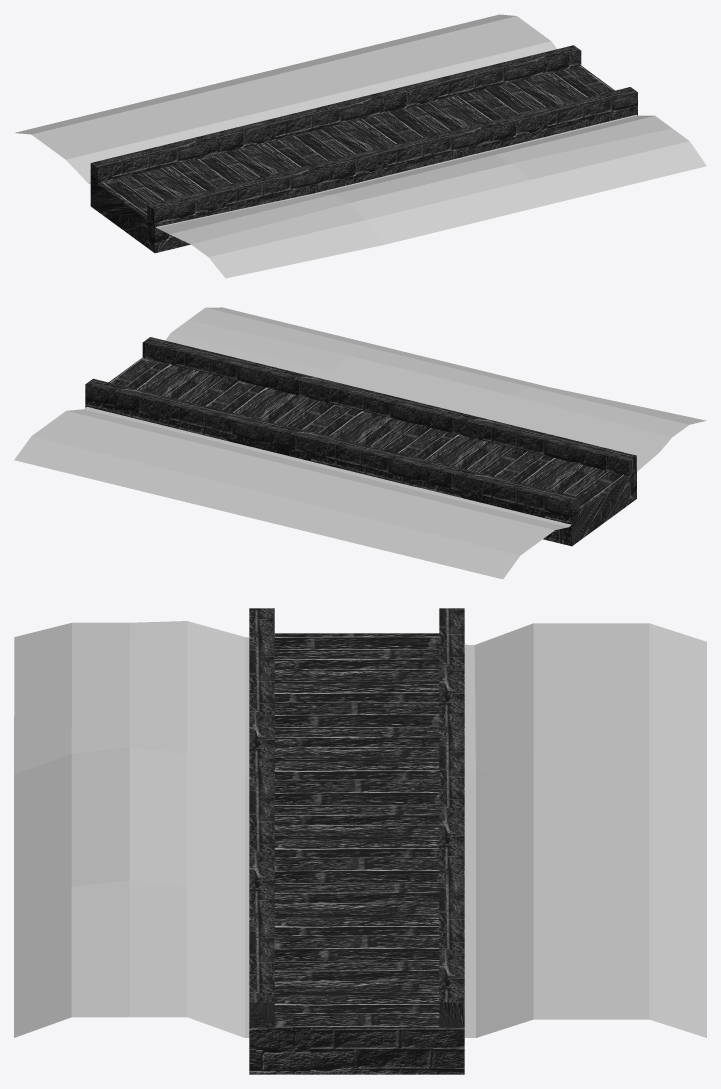
File: STRAIGHT .fbx
The picture shows the model from 3 angles, top to bottom: view 1: azimuth 30°, elevation 25°; view 2: azimuth 150°, elevation 25°; view 3: azimuth 270°, elevation 25°; orthographic projection. The views are drawn at different scales.
Parts seen in each view (by area): view 1: Plane.007, Cube.011, Cube.026, Cube.025; view 2: Plane.007, Cube.011, Cube.026, Cube.025; view 3: Plane.007, Cube.011, Cube.025, Cube.026.
Part boxes in pixels (x1=…): Plane.007: x1=15, y1=14, x2=706, y2=278; Cube.011: x1=90, y1=65, x2=637, y2=253; Cube.026: x1=90, y1=45, x2=581, y2=183; Cube.025: x1=147, y1=87, x2=637, y2=224; Plane.007: x1=14, y1=307, x2=706, y2=579; Cube.011: x1=85, y1=357, x2=636, y2=546; Cube.026: x1=85, y1=378, x2=579, y2=517; Cube.025: x1=142, y1=337, x2=636, y2=475; Plane.007: x1=14, y1=621, x2=706, y2=1037; Cube.011: x1=249, y1=633, x2=464, y2=1074; Cube.025: x1=249, y1=608, x2=274, y2=1027; Cube.026: x1=439, y1=608, x2=464, y2=1027.
Size of the model in its own units: 3963 by 335 by 2919.
